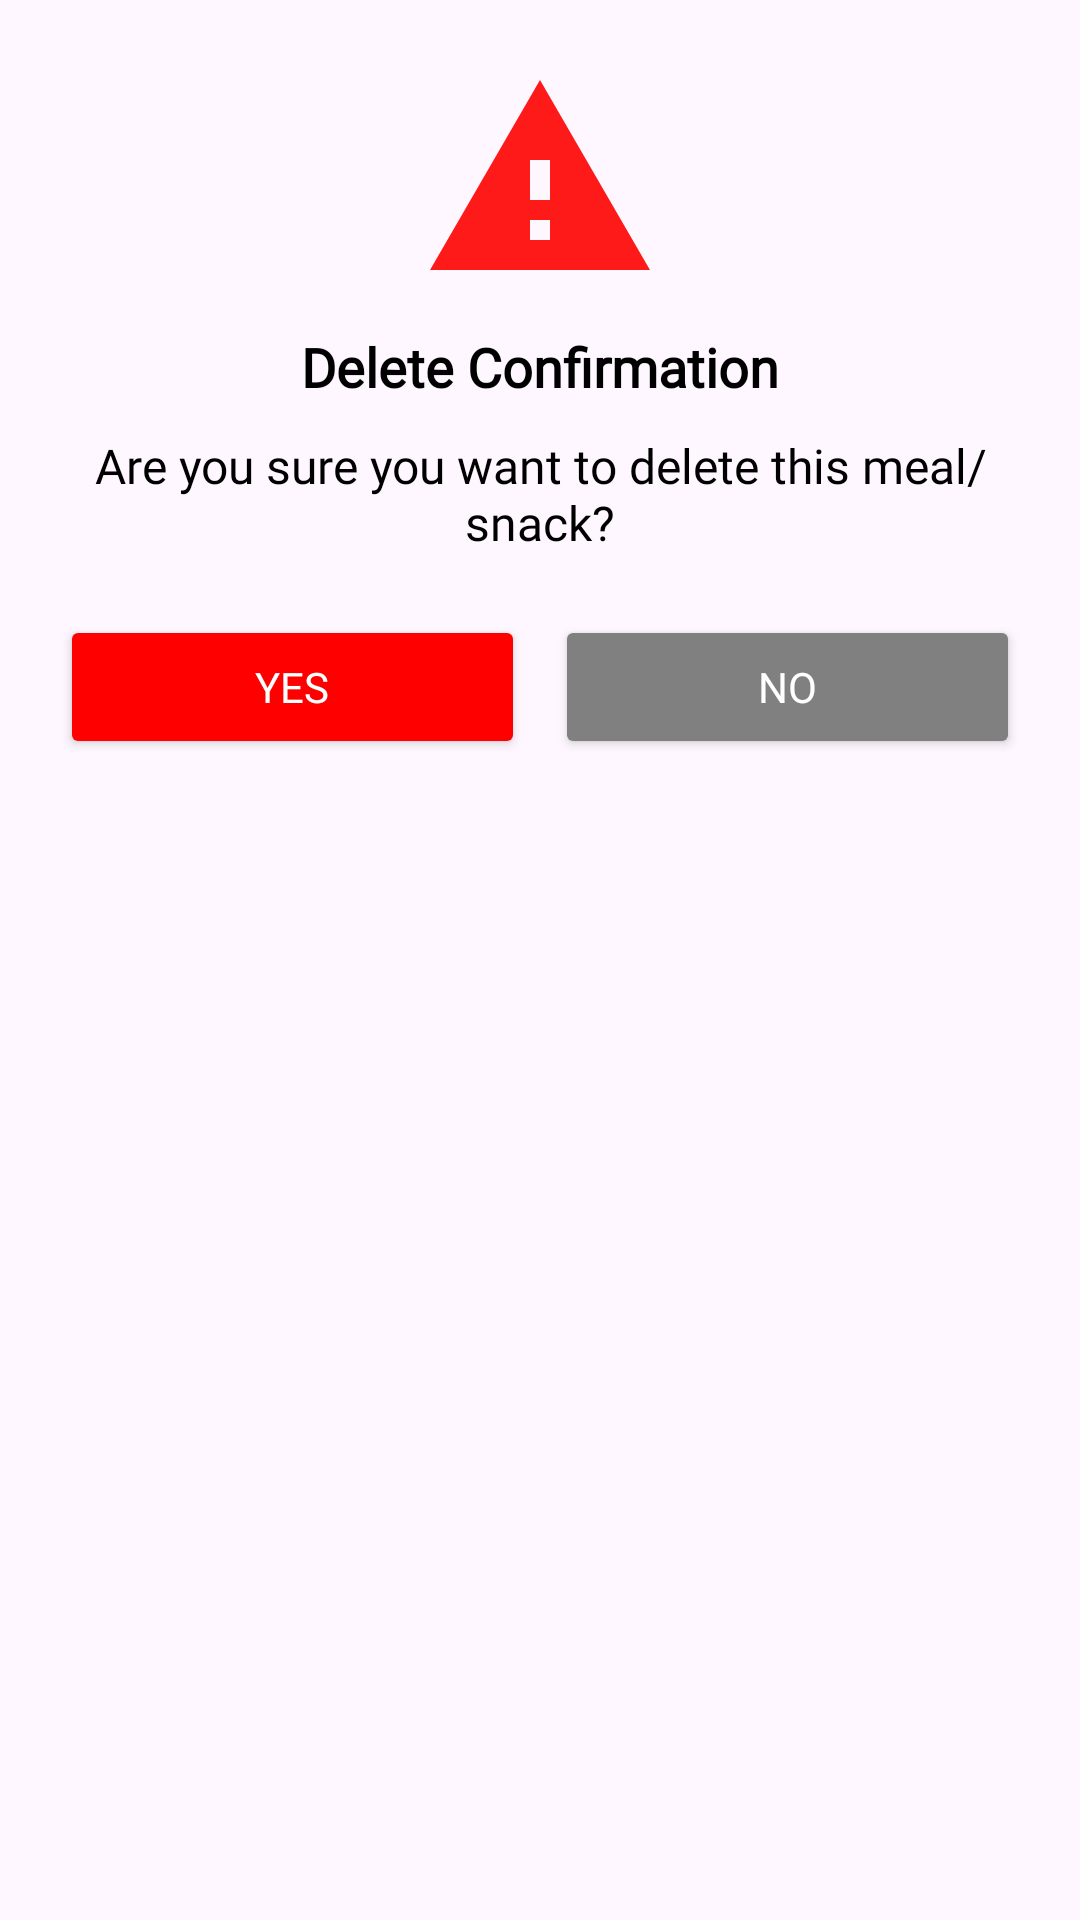

Where to tap for icons on this 1080*1920 app screen, as (x,y):
warning: (540,175)
